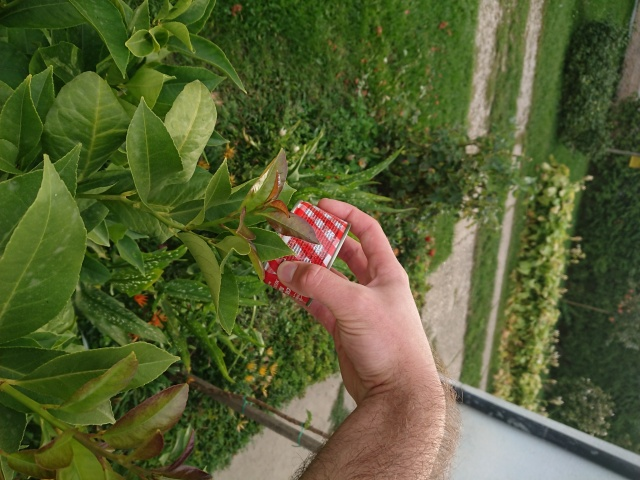Podravka Luncheon Meat 150g: (256, 197, 354, 310)
